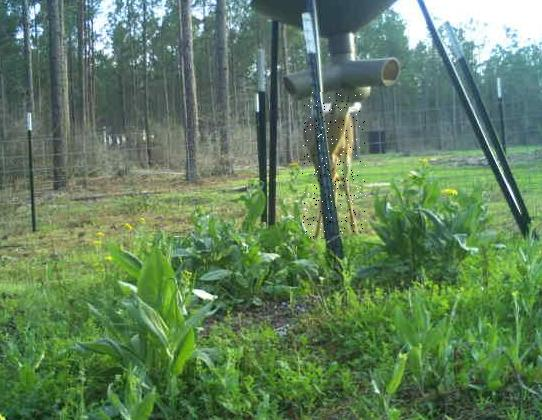Deer: (303, 92, 367, 239)
